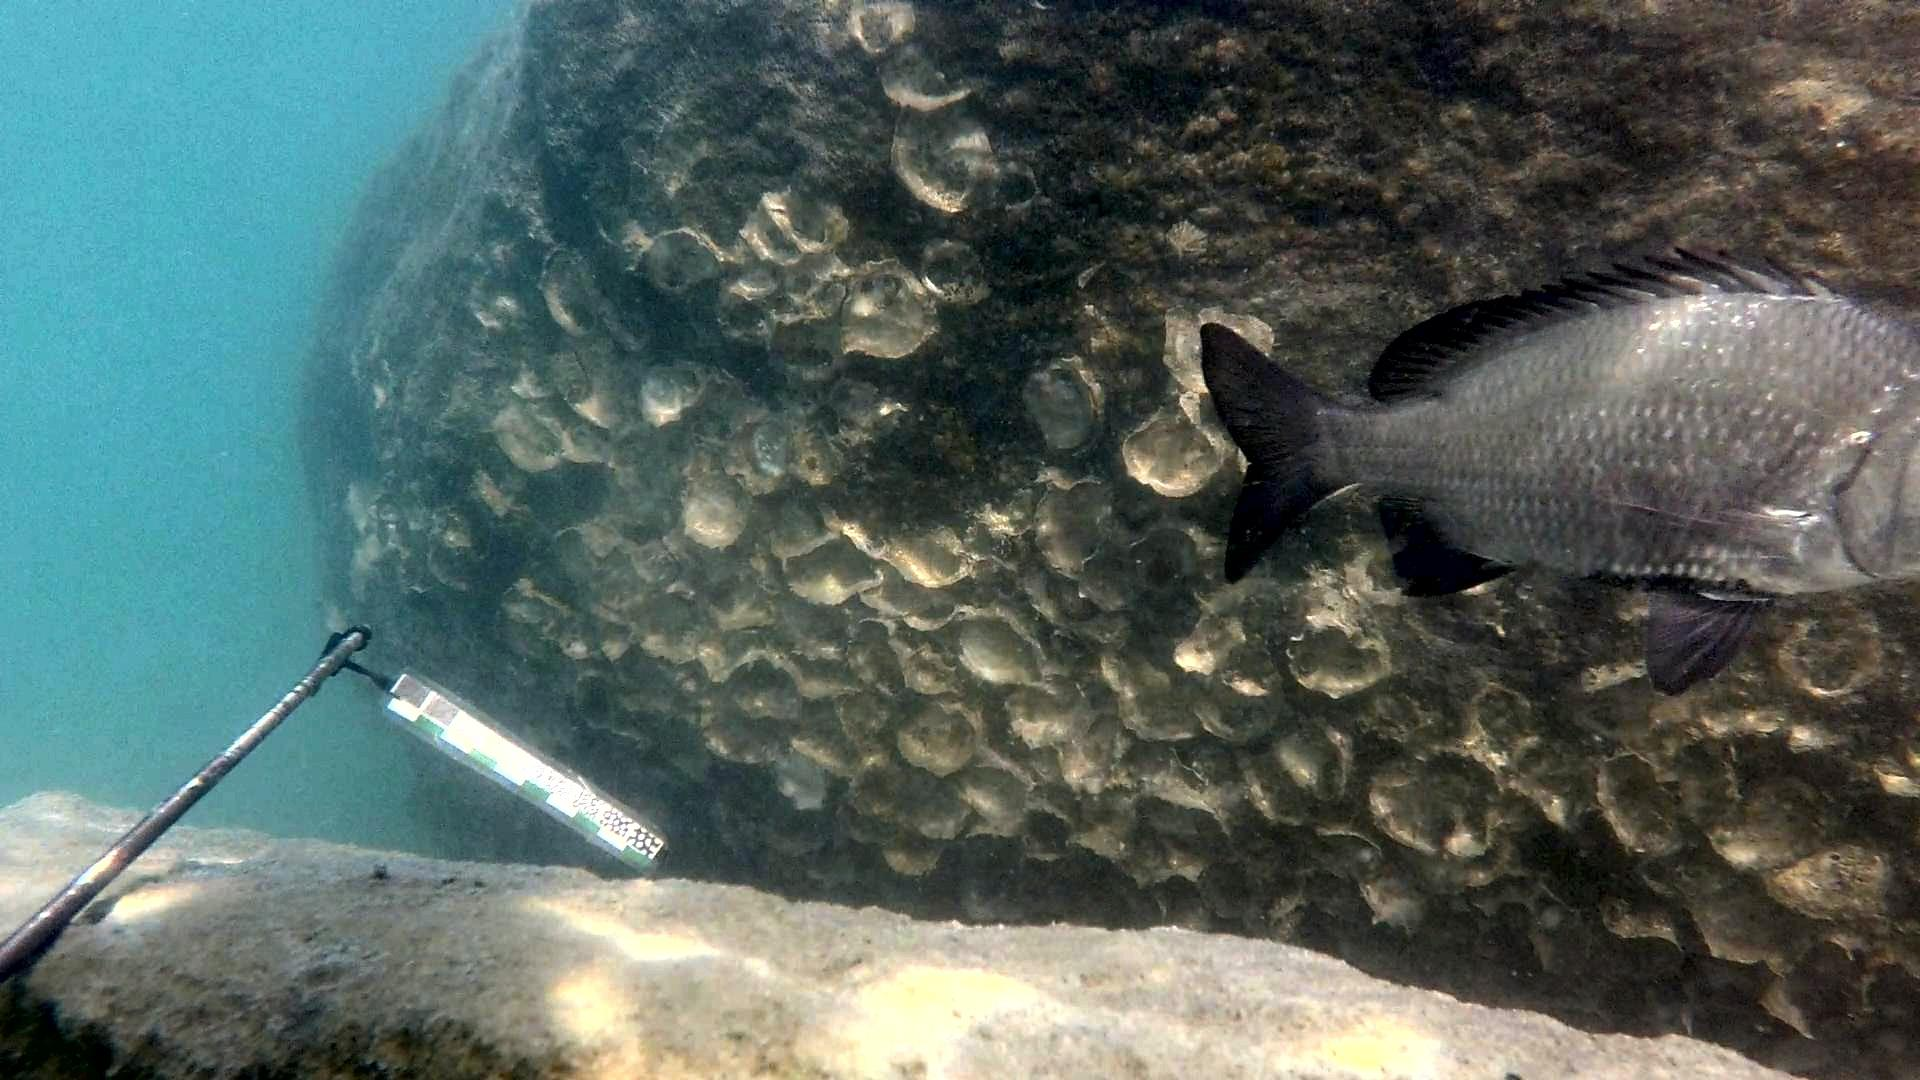acanthopagrus palmaris: (1189, 240, 1920, 703)
